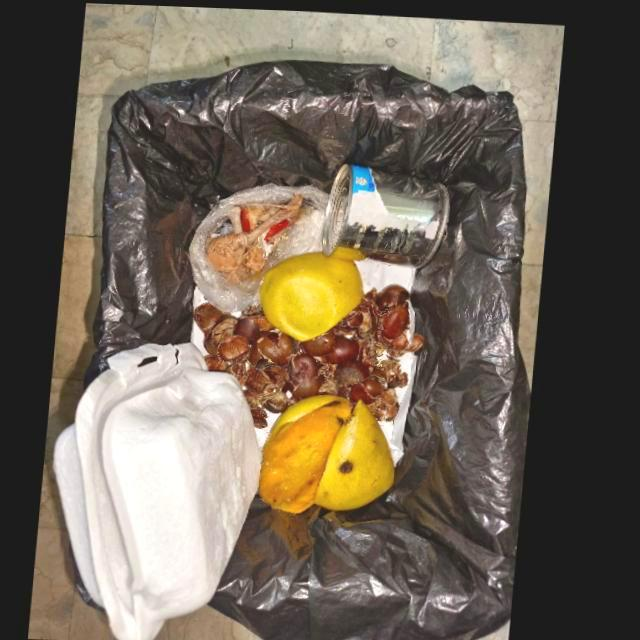aluminum: (326, 161, 453, 265)
left_over_food: (209, 191, 306, 281)
plastic_bag: (193, 181, 332, 311)
